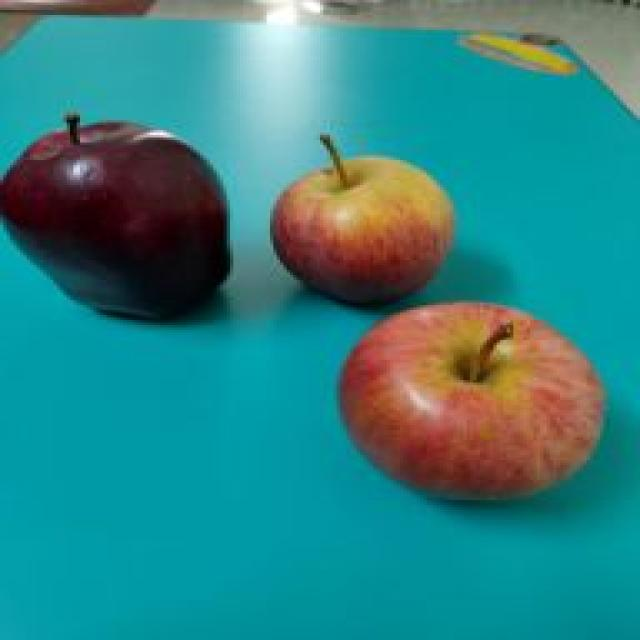Good_Apple: (337, 302, 607, 505), (0, 112, 233, 325), (273, 138, 457, 308)
